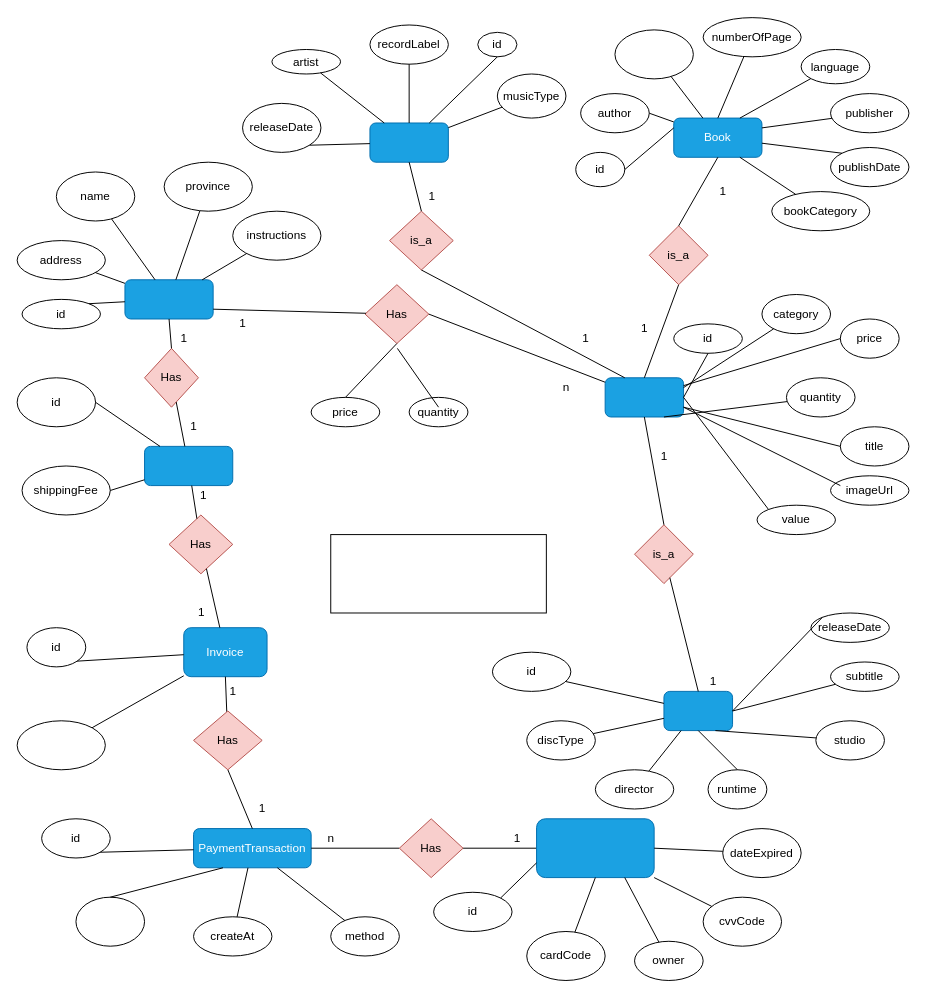
Some shapes in this 926 by 998 pixel diagram are drawn without their labels. The shapes that lost their labels are listed below. From the top down, each one's box as (x1, y1, x2, y2) in pixels, then its label:
(614, 29, 693, 79): coverType
(369, 122, 448, 162): CD
(124, 279, 213, 319): DeliveryInfo
(604, 377, 684, 417): Media
(144, 445, 233, 486): Order
(330, 534, 546, 613): Nguyễn Văn Dương 20173069
(663, 690, 733, 731): DVD
(16, 720, 105, 770): totalAmount
(536, 818, 654, 878): Card
(75, 896, 145, 946): contents
